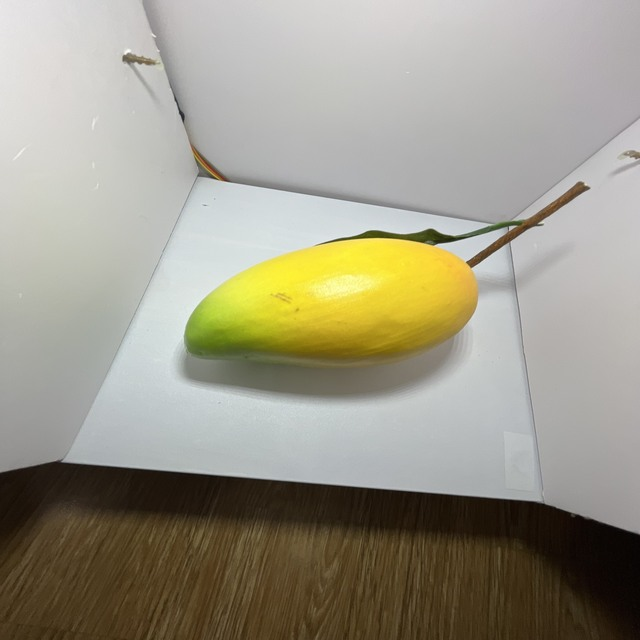Xoai: (160, 207, 495, 415)
